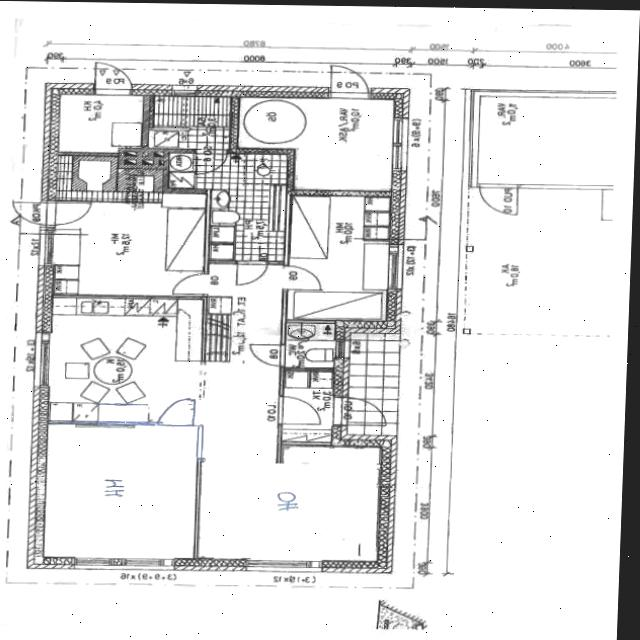room: (45, 424, 196, 558), (289, 193, 390, 321), (59, 94, 143, 152), (149, 96, 230, 148), (283, 369, 333, 442), (286, 322, 334, 366)
